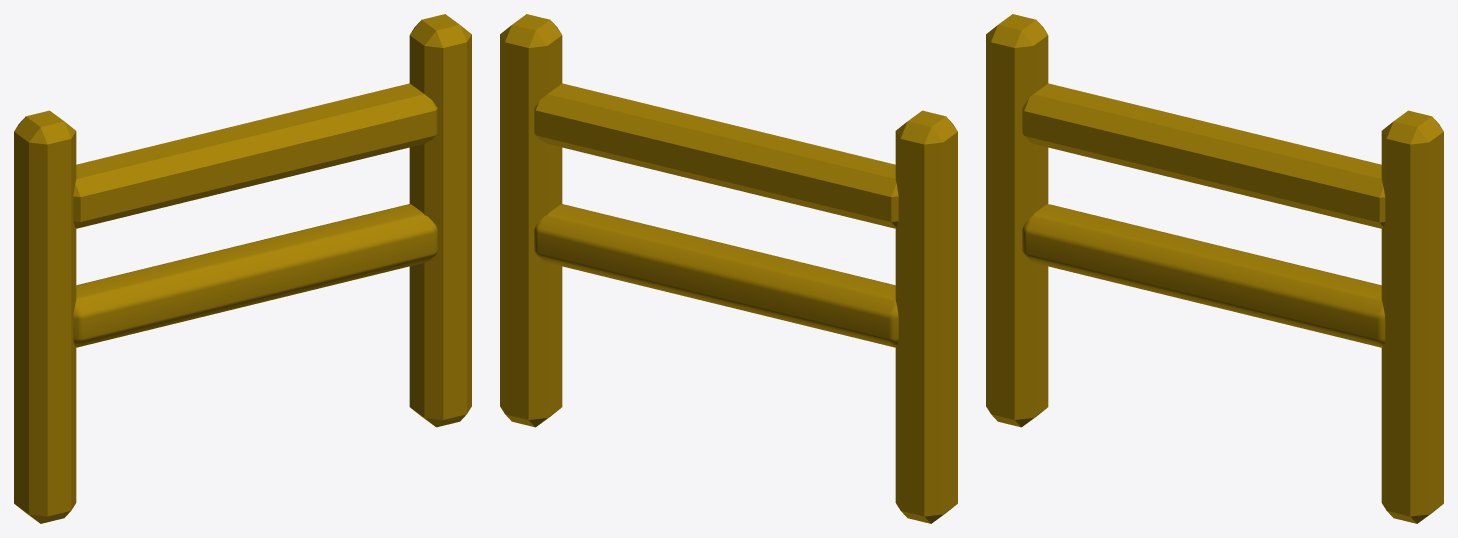
The model's file is Fence_Part.fbx.
3 views of the same model, side by side, from view 1: azimuth 30°, elevation 25°; view 2: azimuth 150°, elevation 25°; view 3: azimuth 330°, elevation 25° (orthographic).
Visible parts, largest first — view 1: pCube62; view 2: pCube62; view 3: pCube62.
Boxes of the visible parts, left/top/right/bottom form: pCube62: left=14, top=14, right=471, bottom=523; pCube62: left=500, top=14, right=957, bottom=523; pCube62: left=986, top=14, right=1443, bottom=523.
Size of the model in its own units: 257 by 220 by 28.64.
